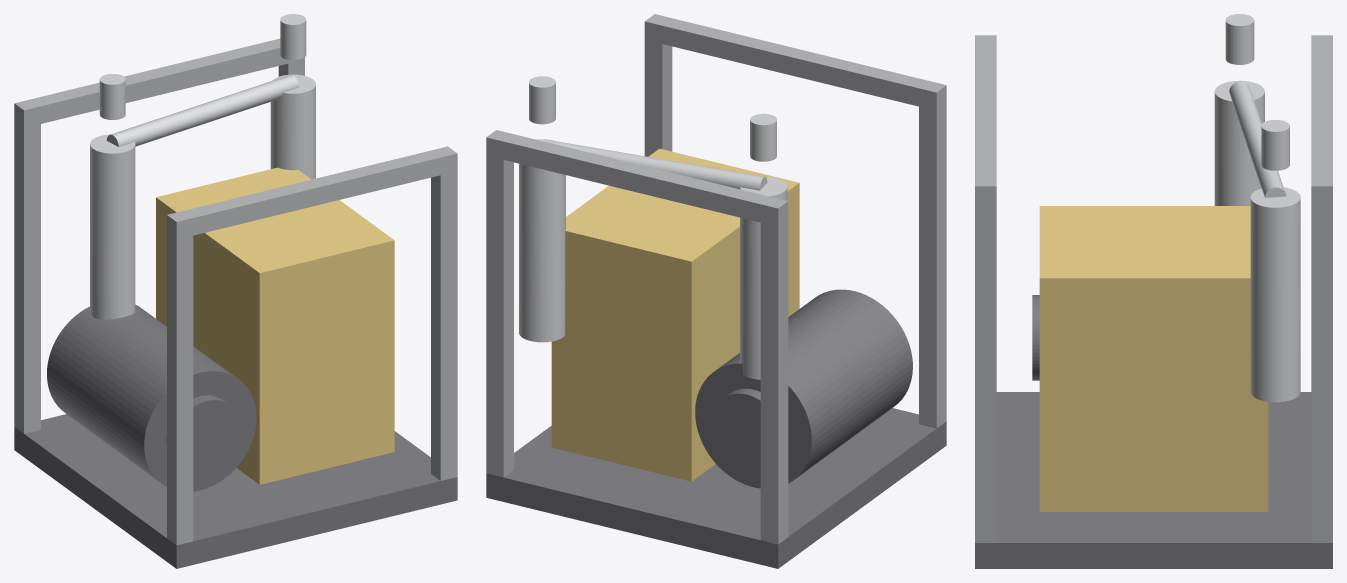
File: rover07_moxie.glb
3 renders of one model, left to right at view 1: azimuth 30°, elevation 25°; view 2: azimuth 150°, elevation 25°; view 3: azimuth 270°, elevation 25°, orthographic. The views are drawn at different scales.
Visible parts, largest first — view 1: soxe_stack, frame, base_plate, compressor, filters_pipes; view 2: frame, soxe_stack, base_plate, compressor, filters_pipes; view 3: soxe_stack, base_plate, frame, filters_pipes, compressor.
Boxes of the visible parts, x1,y1,x2,y2 form: soxe_stack: [156, 167, 394, 484]; frame: [14, 38, 457, 545]; base_plate: [14, 414, 457, 568]; compressor: [47, 304, 256, 491]; filters_pipes: [90, 14, 315, 319]; frame: [486, 14, 946, 544]; soxe_stack: [551, 148, 799, 481]; base_plate: [486, 408, 946, 568]; compressor: [695, 289, 912, 488]; filters_pipes: [519, 76, 787, 379]; soxe_stack: [1039, 206, 1268, 511]; base_plate: [975, 392, 1332, 568]; frame: [975, 35, 1332, 542]; filters_pipes: [1214, 14, 1300, 402]; compressor: [1032, 295, 1039, 380].
Bounding box in the file's own units: 0.5 × 0.66 × 0.5.
